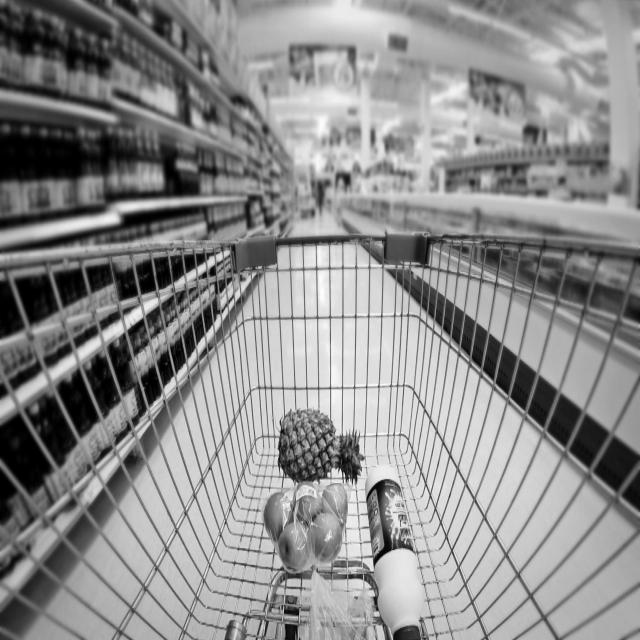apple: (260, 481, 349, 572)
milk: (363, 461, 428, 639)
pineapple: (276, 404, 364, 486)
